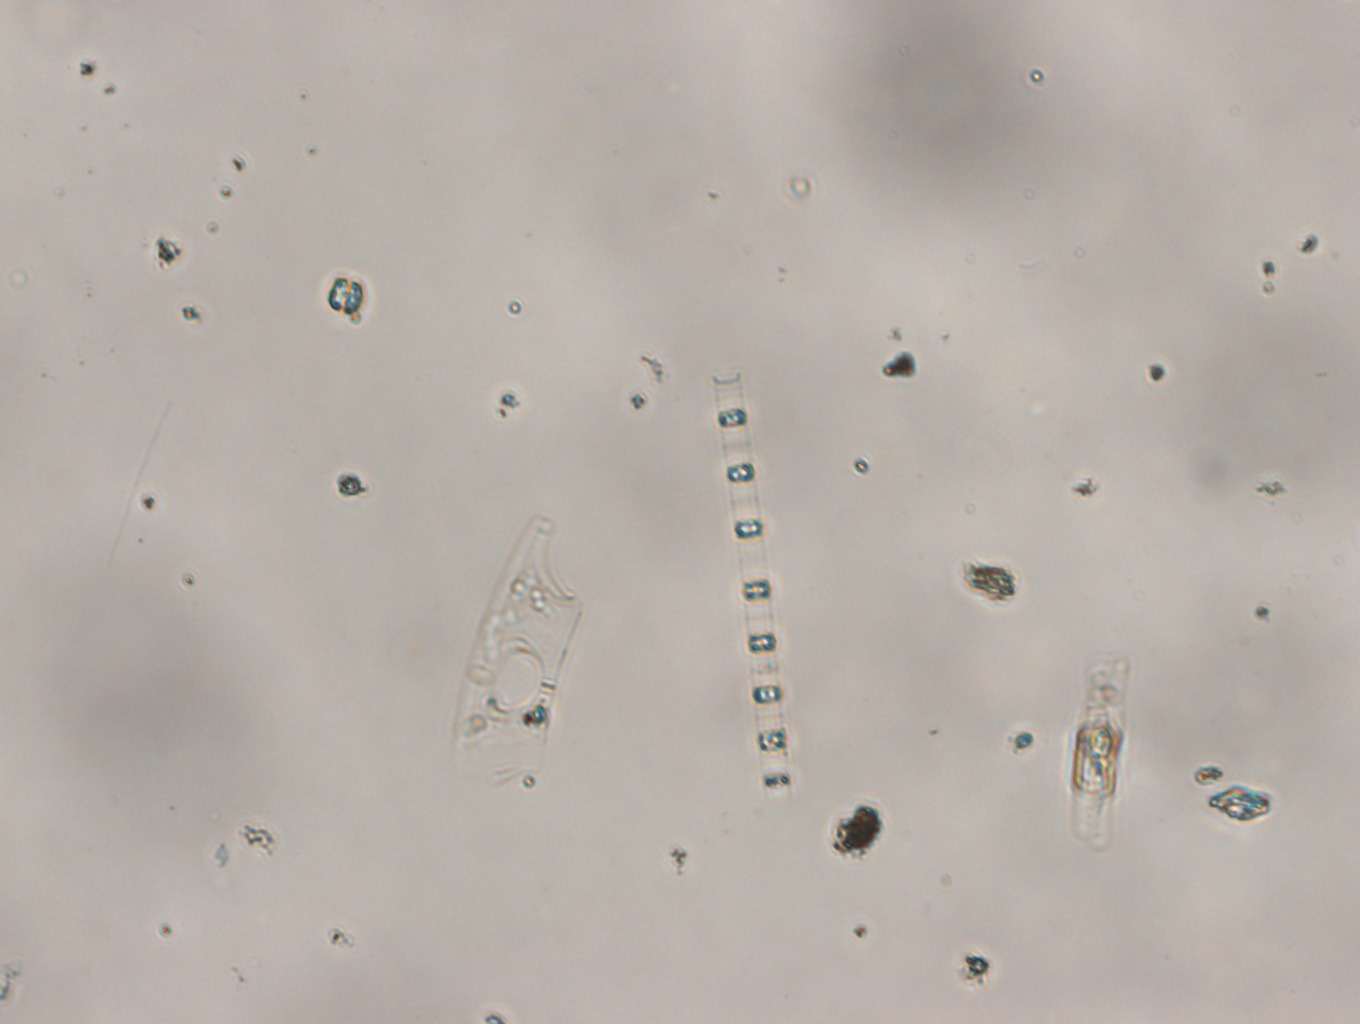eucampia: (447, 512, 586, 803)
skeletonema: (696, 374, 824, 809)
